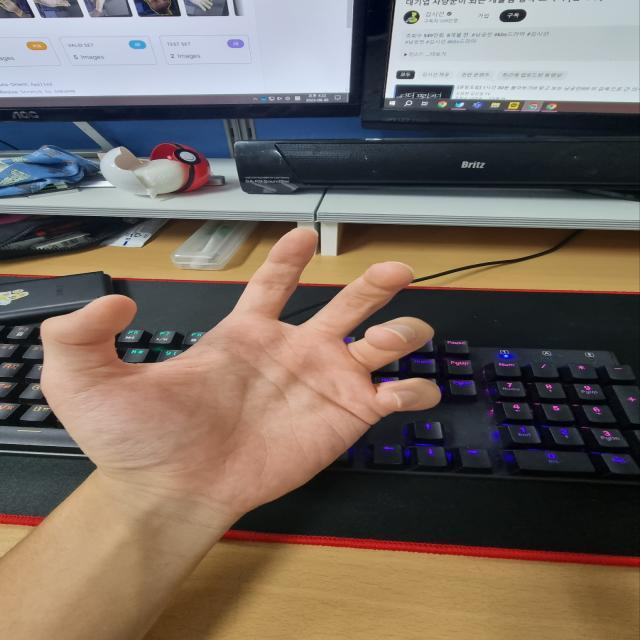keyboard-with-hands: (0, 324, 640, 483)
